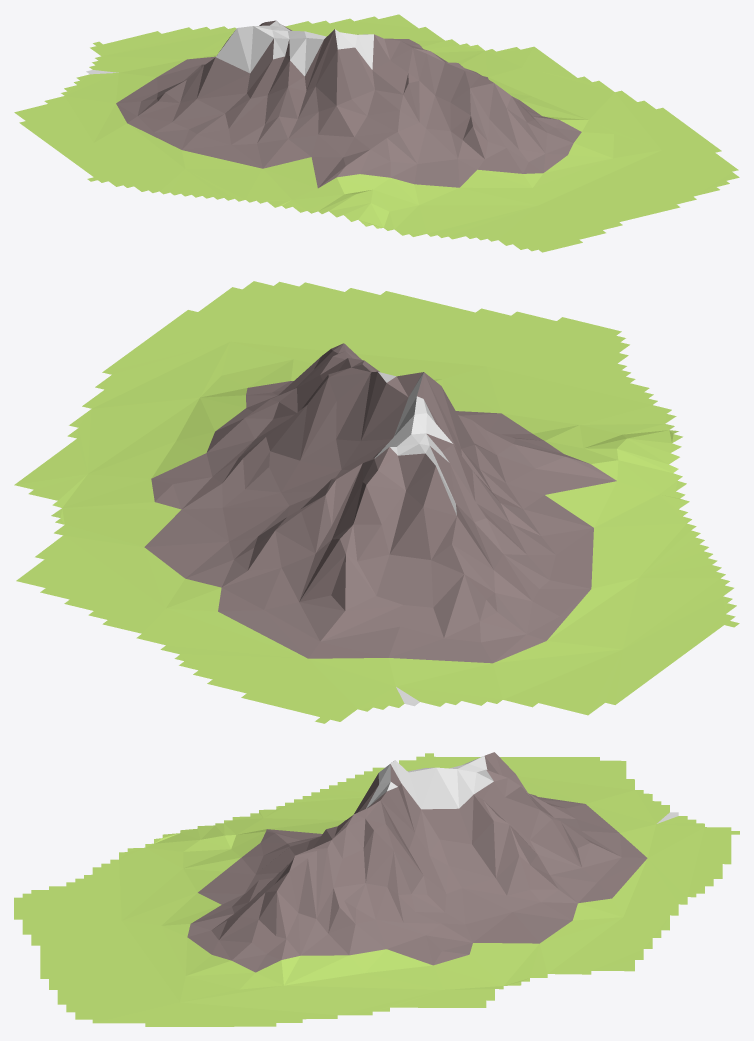
Rendered from mountain.gltf.
The picture shows the model from 3 angles, top to bottom: view 1: azimuth 30°, elevation 25°; view 2: azimuth 150°, elevation 25°; view 3: azimuth 270°, elevation 25°; orthographic projection. The views are drawn at different scales.
Visible parts, largest first — view 1: Plane; view 2: Plane; view 3: Plane.
Boxes of the visible parts, left/top/right/bottom form: Plane: left=14, top=14, right=739, bottom=252; Plane: left=14, top=281, right=739, bottom=723; Plane: left=14, top=752, right=739, bottom=1026.
Size of the model in its own units: 29.64 by 5.98 by 33.24.
